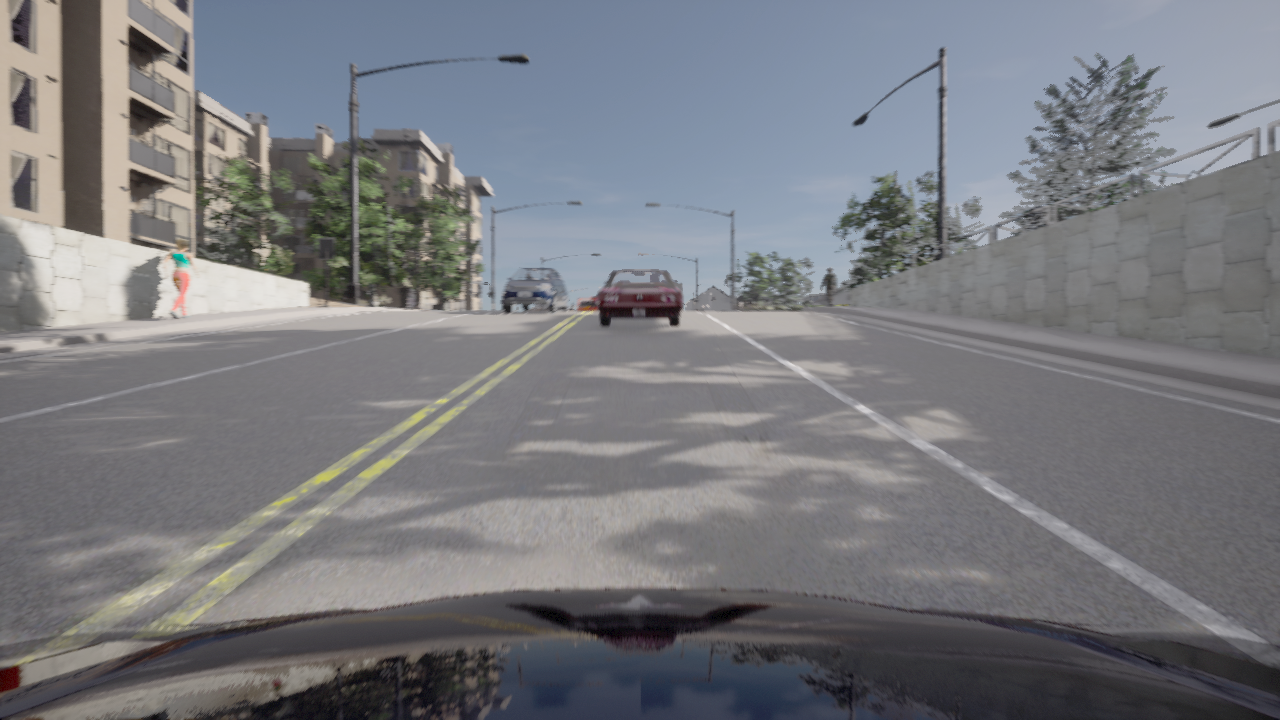cyclist: (0, 588, 1279, 719), (596, 270, 682, 326), (501, 267, 567, 313), (571, 297, 597, 311)
pedestrian: (162, 240, 199, 319), (820, 268, 836, 306)
